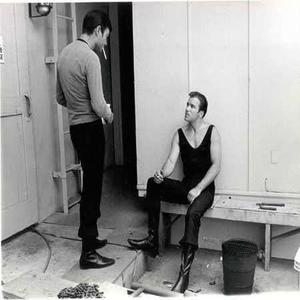cigarette: (101, 45, 109, 61)
